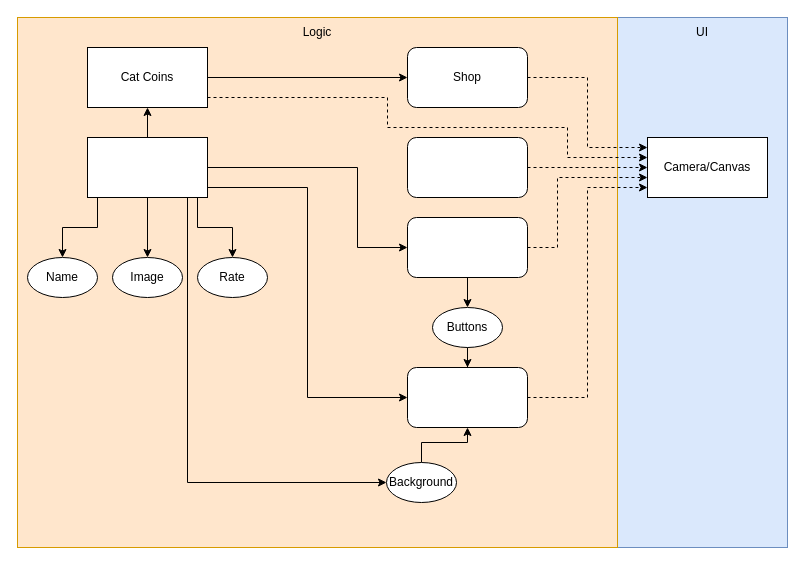
This 805x565 diagram has some shape labels left out. The centre of each missing label's shape, as x and y in pixels:
"Cat-Rooms" goes at (x=467, y=397).
"Generators (Cats)" goes at (x=147, y=167).
"Main Menu" goes at (x=467, y=167).
"Overview" goes at (x=467, y=247).
